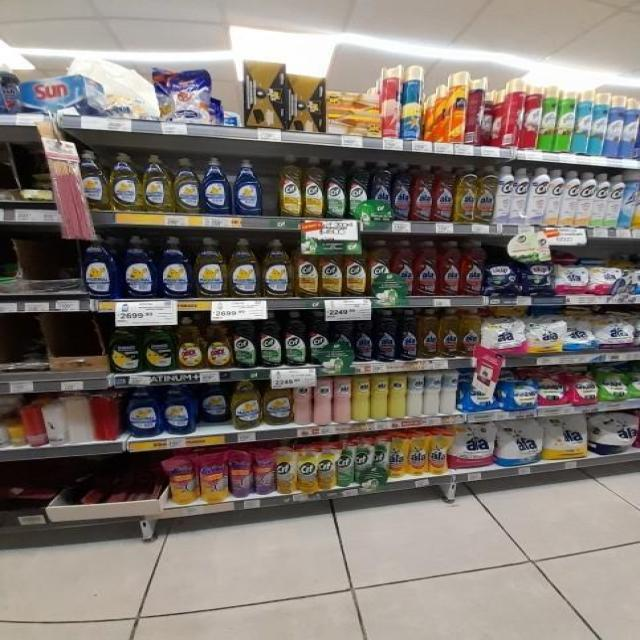ala_conc_amarillo: (456, 165, 476, 224), (476, 166, 495, 224), (460, 308, 481, 357), (418, 308, 438, 359), (439, 308, 459, 358)
ala_conc_azul: (371, 161, 392, 222), (392, 163, 411, 222), (376, 310, 397, 362), (398, 309, 418, 361), (354, 310, 374, 362)
ala_conc_rojo: (462, 239, 484, 297), (415, 240, 437, 297), (412, 164, 433, 223), (438, 240, 459, 297), (392, 240, 413, 297), (434, 165, 454, 223)
ala_crem_amarillo: (352, 375, 370, 422), (370, 374, 388, 420), (389, 372, 406, 419)
ala_crem_blanco: (408, 372, 423, 417)
ala_crem_rosado: (293, 378, 313, 426), (313, 377, 332, 425), (333, 376, 352, 424)
ala_sachet_amarillo: (408, 432, 428, 475), (428, 431, 448, 474)
cif_conc_bot_amarilla: (278, 154, 302, 218), (294, 240, 318, 298), (368, 239, 391, 297), (303, 156, 324, 219), (320, 241, 343, 297), (345, 240, 367, 297)
cif_conc_botella_verde: (258, 311, 282, 368), (283, 310, 307, 367), (308, 310, 331, 366), (233, 316, 257, 369), (348, 160, 369, 220), (326, 159, 346, 219), (332, 311, 353, 365)
cif_conc_sachet_amarillo: (275, 448, 296, 494), (297, 447, 316, 493), (317, 446, 336, 490)
magistral_con_amarillo: (194, 237, 227, 298), (228, 237, 260, 299), (109, 152, 141, 212), (142, 154, 172, 213), (262, 239, 292, 298), (80, 151, 108, 210), (231, 380, 262, 429), (174, 157, 200, 214), (263, 379, 292, 426)
magistral_con_azul: (82, 234, 119, 299), (121, 235, 157, 299), (158, 236, 193, 299), (125, 385, 161, 438), (233, 159, 263, 216), (163, 384, 196, 435), (202, 157, 230, 215), (199, 382, 229, 424)
